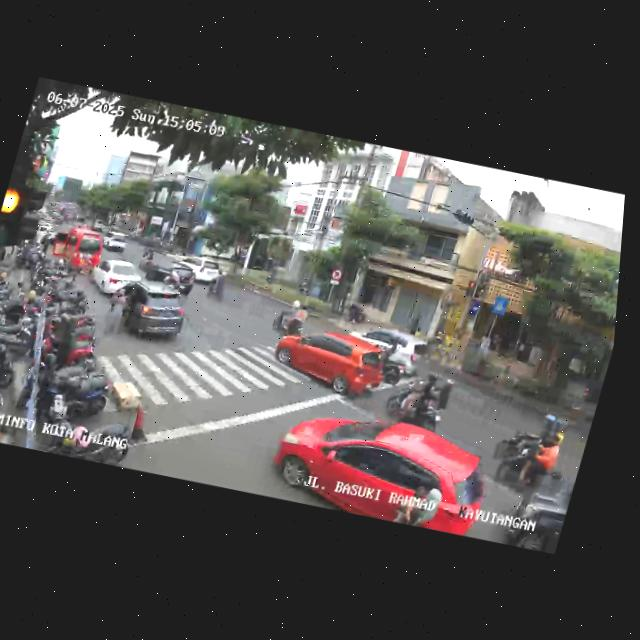car: (260, 396, 502, 541), (267, 317, 397, 408), (502, 468, 576, 554), (113, 279, 193, 349), (340, 319, 430, 378), (39, 221, 107, 280), (136, 246, 202, 296), (86, 255, 144, 300), (173, 251, 225, 288), (101, 228, 131, 255)
motorcycle: (491, 422, 573, 498), (379, 362, 459, 429), (492, 404, 571, 469), (363, 339, 412, 387), (273, 297, 311, 340), (205, 266, 232, 302), (159, 269, 187, 299)
person: (392, 472, 447, 530), (100, 286, 131, 338)
